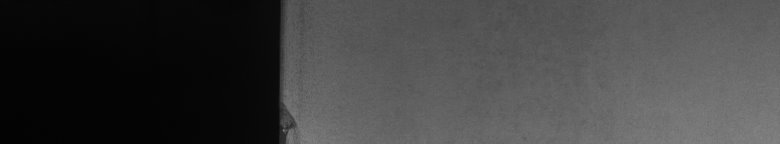hb: (288, 105, 303, 136)
